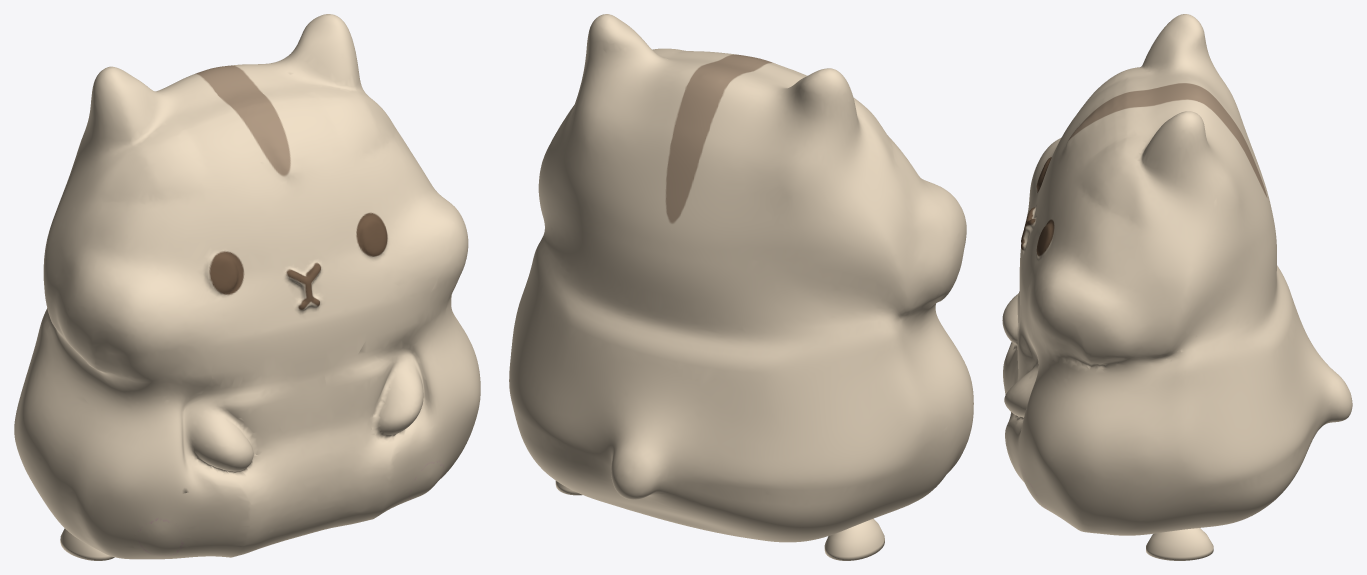
File: mochita_standing_web.glb
3 views of the same model, side by side, from view 1: azimuth 30°, elevation 25°; view 2: azimuth 150°, elevation 25°; view 3: azimuth 270°, elevation 25° (orthographic). The views are drawn at different scales.
Visible parts, largest first — view 1: Mochita_Sitting_Final_Web_Standing, Foot_R_TinyOval_Web_Standing; view 2: Mochita_Sitting_Final_Web_Standing, Foot_R_TinyOval_Web_Standing; view 3: Mochita_Sitting_Final_Web_Standing, Foot_L_TinyOval_Web_Standing.
Boxes of the visible parts, <box> form: Mochita_Sitting_Final_Web_Standing: <box>14,14,480,559</box>; Foot_R_TinyOval_Web_Standing: <box>60,528,114,560</box>; Mochita_Sitting_Final_Web_Standing: <box>509,14,973,542</box>; Foot_R_TinyOval_Web_Standing: <box>824,518,884,560</box>; Mochita_Sitting_Final_Web_Standing: <box>1002,14,1352,535</box>; Foot_L_TinyOval_Web_Standing: <box>1146,528,1213,560</box>.
Bounding box in the file's own units: 1.85 × 2.02 × 1.5.
Materials: 3 (1 with a texture image).
